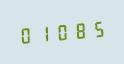eight: (69, 19, 85, 41)
five: (86, 17, 102, 40)
one: (35, 22, 51, 44)
zero: (18, 23, 34, 46), (52, 20, 68, 43)
